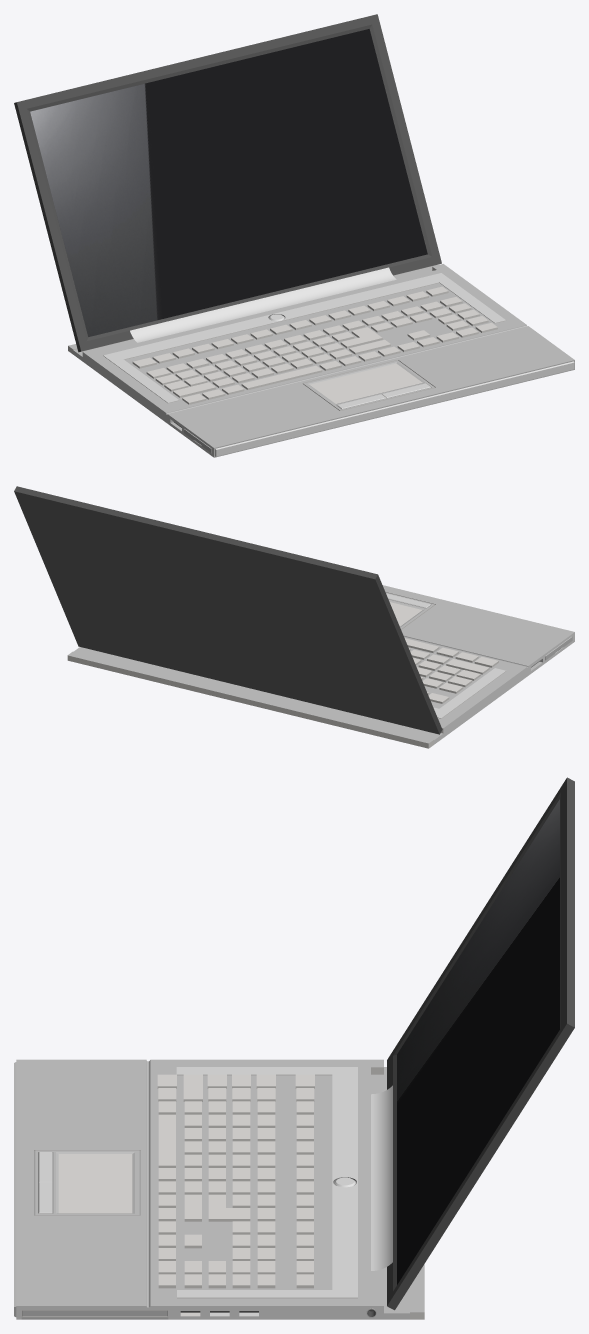
Rendered from Laptop.fbx.
3 renders of one model, top to bottom at view 1: azimuth 30°, elevation 25°; view 2: azimuth 150°, elevation 25°; view 3: azimuth 270°, elevation 25°, orthographic. The views are drawn at different scales.
Parts seen in each view (by area): view 1: Group1, Group2, Group3, Group4; view 2: Group1, Group2, Group3; view 3: Group1, Group2, Group3, Group4.
Boxes of the visible parts, left/top/right/bottom form: Group1: left=14, top=14, right=574, bottom=457; Group2: left=155, top=303, right=497, bottom=404; Group3: left=146, top=297, right=462, bottom=378; Group4: left=132, top=286, right=448, bottom=368; Group1: left=14, top=486, right=574, bottom=748; Group2: left=405, top=638, right=498, bottom=687; Group3: left=421, top=677, right=463, bottom=693; Group1: left=14, top=777, right=574, bottom=1319; Group2: left=157, top=1074, right=250, bottom=1288; Group3: left=256, top=1074, right=275, bottom=1288; Group4: left=295, top=1074, right=314, bottom=1288.
Size of the model in its own units: 209 by 117 by 201.
